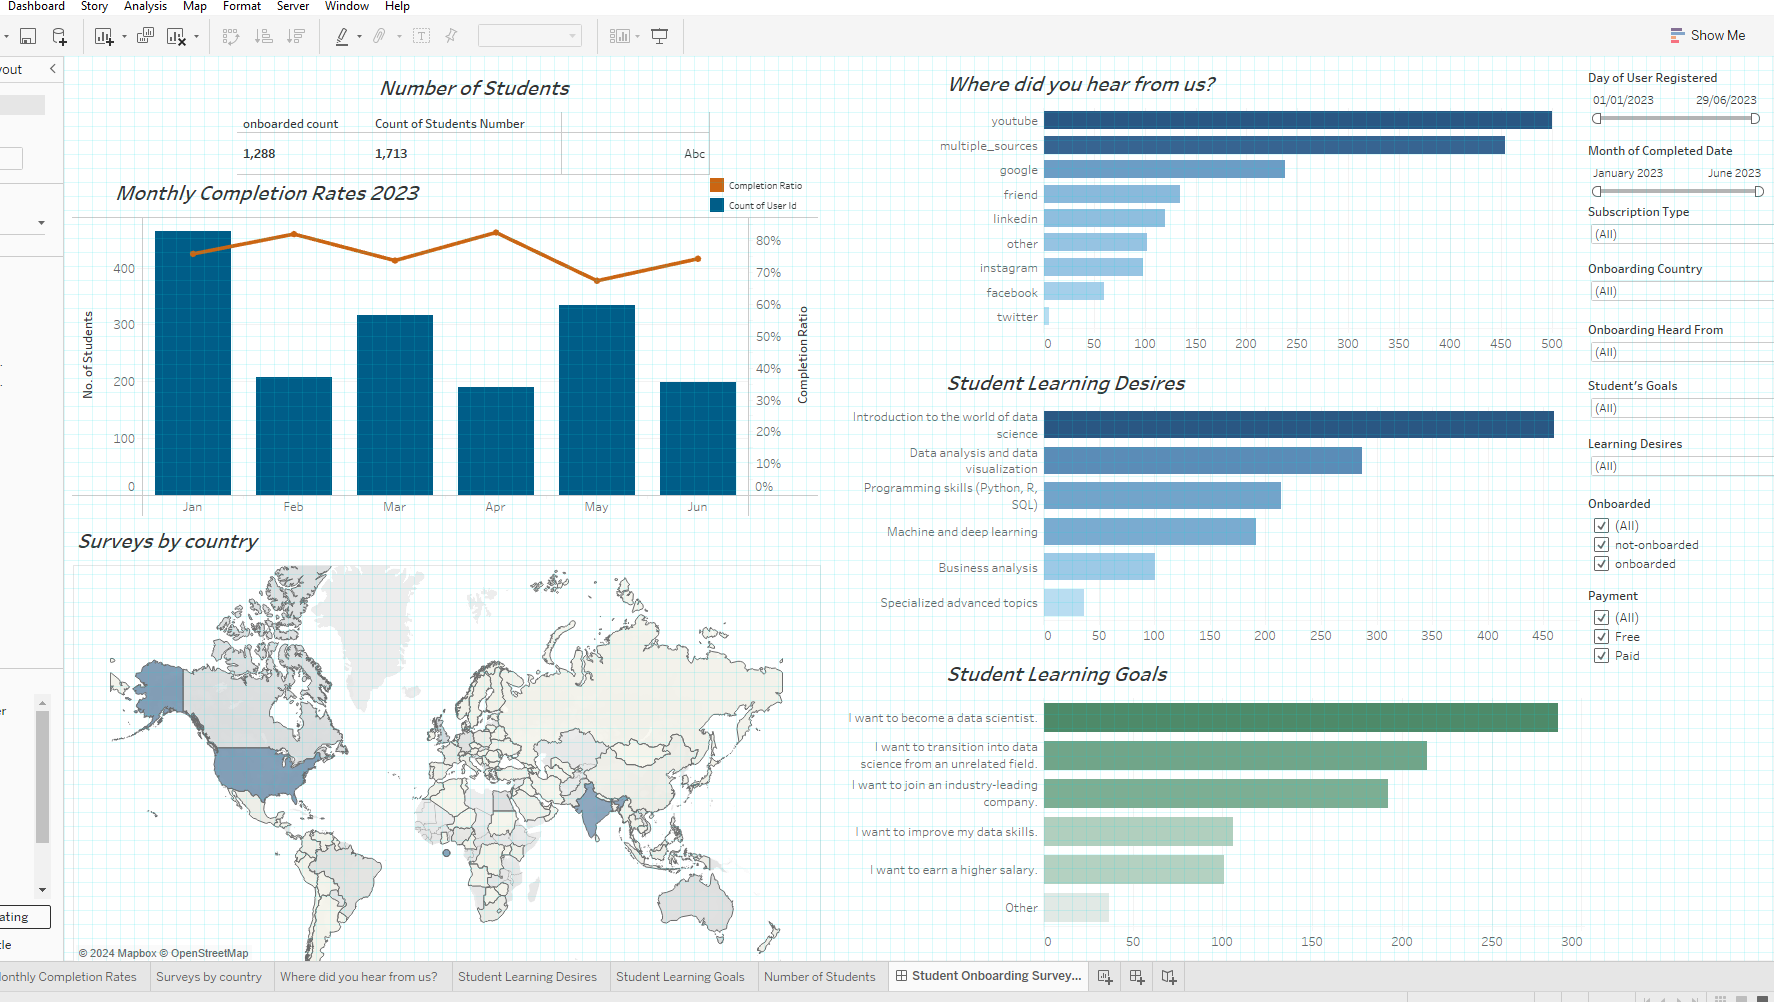

This screenshot's page, from the dashboard's own definition file:
{"tool":"tableau","page":{"name":"Student Onboarding Survey Analysis (4)","canvas":[1000,1000],"units":"permille","ordinal":0},"visuals":[{"type":"worksheet","title":"Where did you hear from us?","mark":"Automatic","rows":["onboarding_heard_from_label"],"cols":["onboarding_heard_from_label"],"box":[455.8,10,429.5,325.2]},{"type":"filter","title":"Monthly Completion Rates","param":"[federated.12w0jjp10nkrg11boob8d0qgfz8j].[none:user_registered:qk]","box":[891.8,14.4,103,70.8]},{"type":"worksheet","title":"Number of Students","mark":"Automatic","rows":["Calculation_1043146273289424896","User Id (copy)_1352768748026662912"],"box":[101.1,14.7,276.7,117.5]},{"type":"filter","title":"Monthly Completion Rates","param":"[federated.12w0jjp10nkrg11boob8d0qgfz8j].[tmn:completed_date:qk]","box":[891.8,95.1,105.3,62]},{"type":"worksheet","title":"Monthly Completion Rates","mark":"Bar","rows":["user_id","Calculation_1043146273289838593"],"cols":["user_registered"],"box":[4.8,130.5,437,379.4]},{"type":"legend","title":"Monthly Completion Rates","param":"[federated.12w0jjp10nkrg11boob8d0qgfz8j].[:Measure Names]","box":[376.3,131.6,63.6,46.5]},{"type":"worksheet","title":"Student Learning Desires","mark":"Automatic","rows":["onboarding_learn_label"],"cols":["onboarding_learn_label"],"box":[455.8,340.7,431.2,318.6]},{"type":"worksheet","title":"Surveys by country","mark":"Automatic","box":[5.3,515.5,437.7,487.8]},{"type":"worksheet","title":"Student Learning Goals","mark":"Automatic","rows":["onboarding_goals_label"],"cols":["onboarding_goals_label"],"box":[455.8,662.6,434.2,336.3]}]}

Visuals, with their boxes on the dashboard's canvas, which has no fixed pixel size, in thousandths of its width and height (x1, y1, x2, y2). These are canvas units, not pixel positions in the 1774x1002 screenshot, which may show the page scaled, cropped or inside an application window:
"Where did you hear from us?" worksheet: x1=456, y1=10, x2=885, y2=335
"Monthly Completion Rates" filter: x1=892, y1=14, x2=995, y2=85
"Number of Students" worksheet: x1=101, y1=15, x2=378, y2=132
"Monthly Completion Rates" filter: x1=892, y1=95, x2=997, y2=157
"Monthly Completion Rates" worksheet (Bar marks): x1=5, y1=130, x2=442, y2=510
"Monthly Completion Rates" legend: x1=376, y1=132, x2=440, y2=178
"Student Learning Desires" worksheet: x1=456, y1=341, x2=887, y2=659
"Surveys by country" worksheet: x1=5, y1=516, x2=443, y2=1003
"Student Learning Goals" worksheet: x1=456, y1=663, x2=890, y2=999
